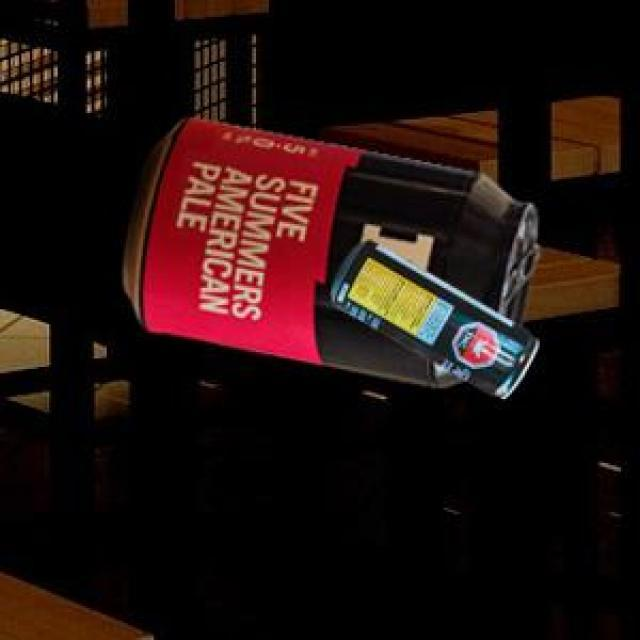Can: (121, 114, 537, 385), (330, 238, 534, 396)
